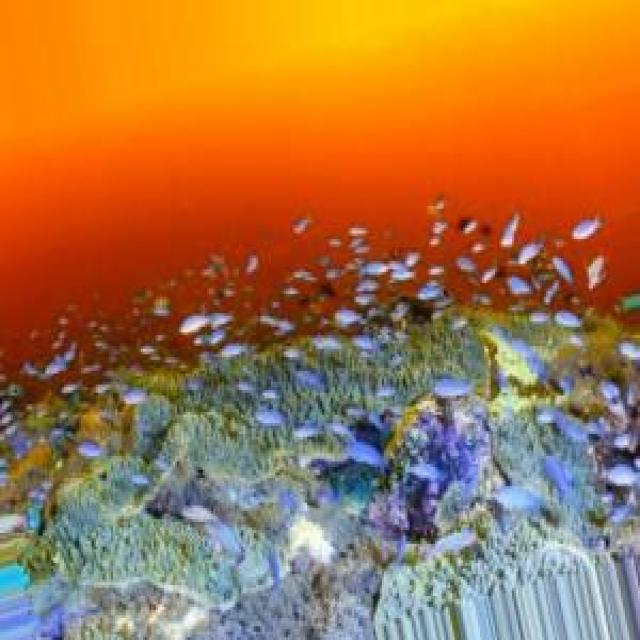Healthy: (29, 375, 485, 640)
